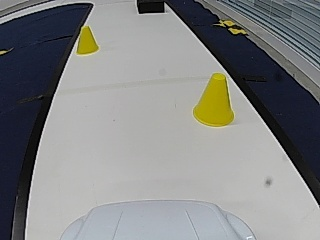block: (137, 0, 164, 14)
cone: (194, 73, 235, 127), (76, 27, 100, 56)
